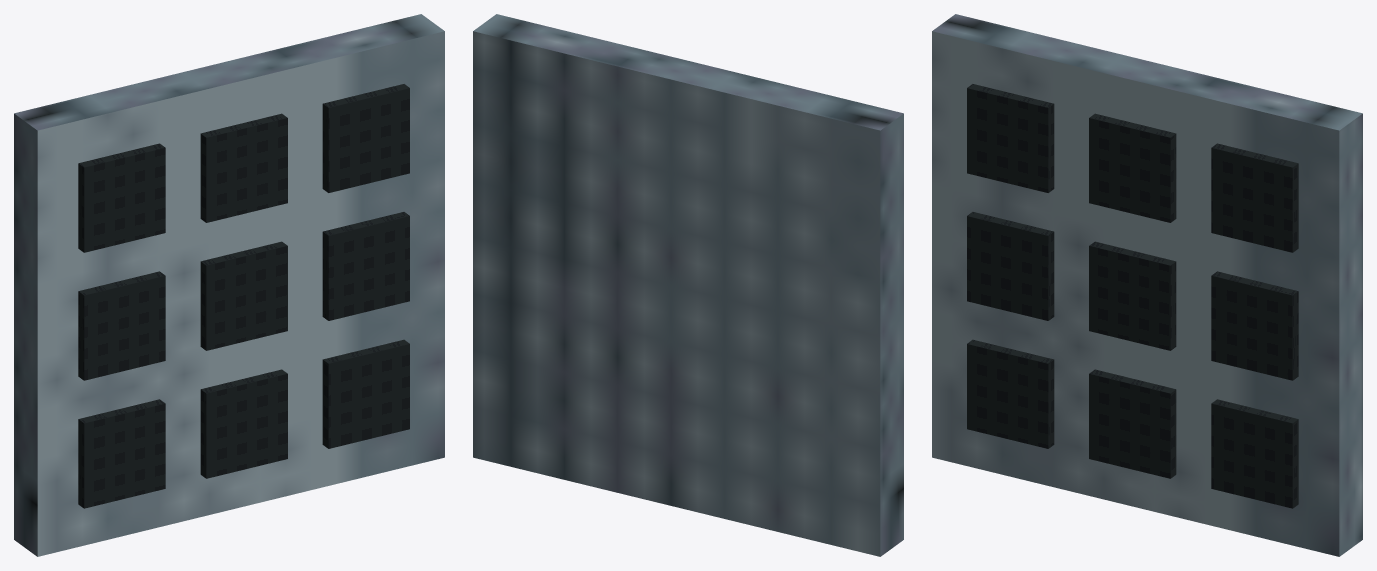
Rendered from LightPuzzle.fbx.
3 views of the same model, side by side, from view 1: azimuth 30°, elevation 25°; view 2: azimuth 150°, elevation 25°; view 3: azimuth 330°, elevation 25° (orthographic).
Visible parts, largest first — view 1: LightPuzzle; view 2: LightPuzzle; view 3: LightPuzzle.
Part boxes in pixels (box(x1,y1,x2,y2)): LightPuzzle: box(14, 14, 444, 556); LightPuzzle: box(473, 14, 903, 556); LightPuzzle: box(932, 14, 1362, 556).
Bounding box in the file's own units: 45.06 × 5.63 × 45.06.
Materials: 2 (2 with a texture image).
